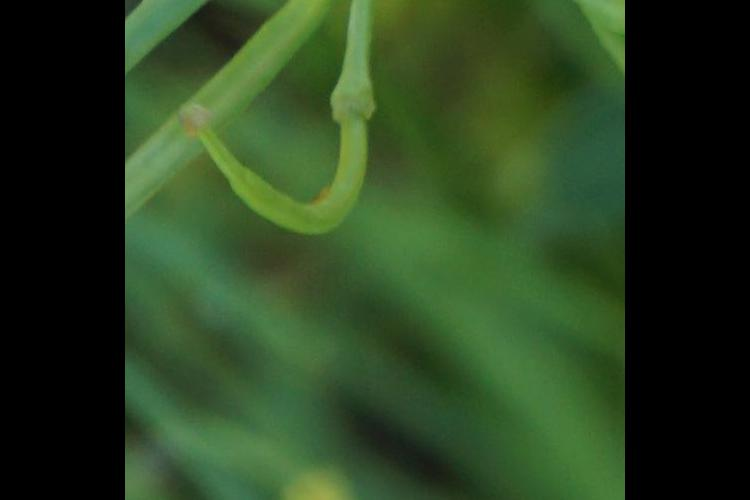bud: (182, 93, 400, 240)
